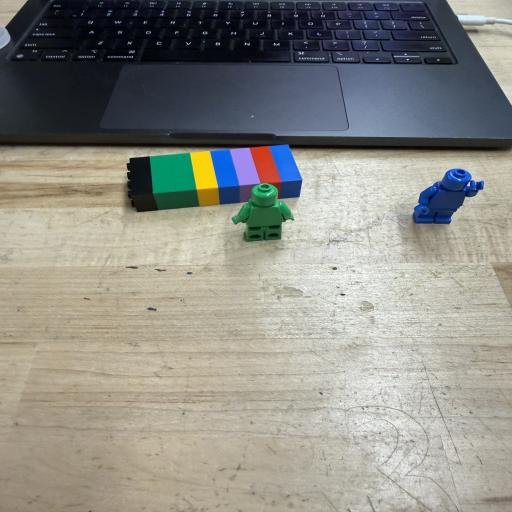blue-minifig: (414, 169, 483, 223)
green-minifig: (234, 184, 292, 241), (251, 183, 278, 207)
